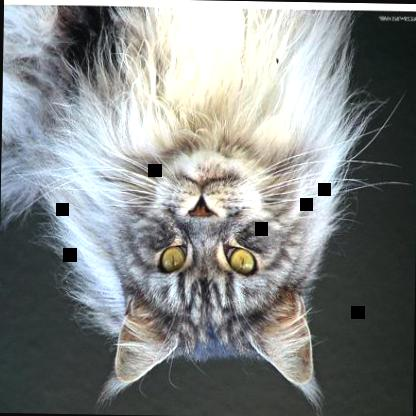cat: (0, 1, 343, 391)
